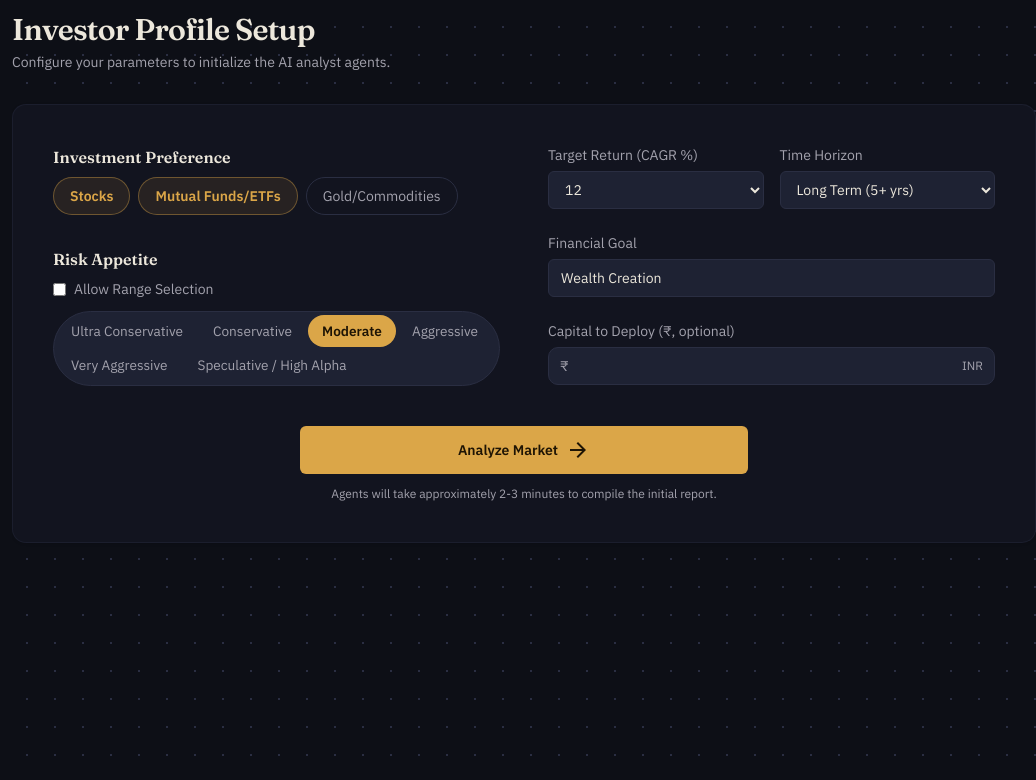
Test: ProfileSetup › submit is disabled and an alert shows when no instruments are selected
Click the button "Stocks": x=92, y=196 [53, 177, 130, 215]
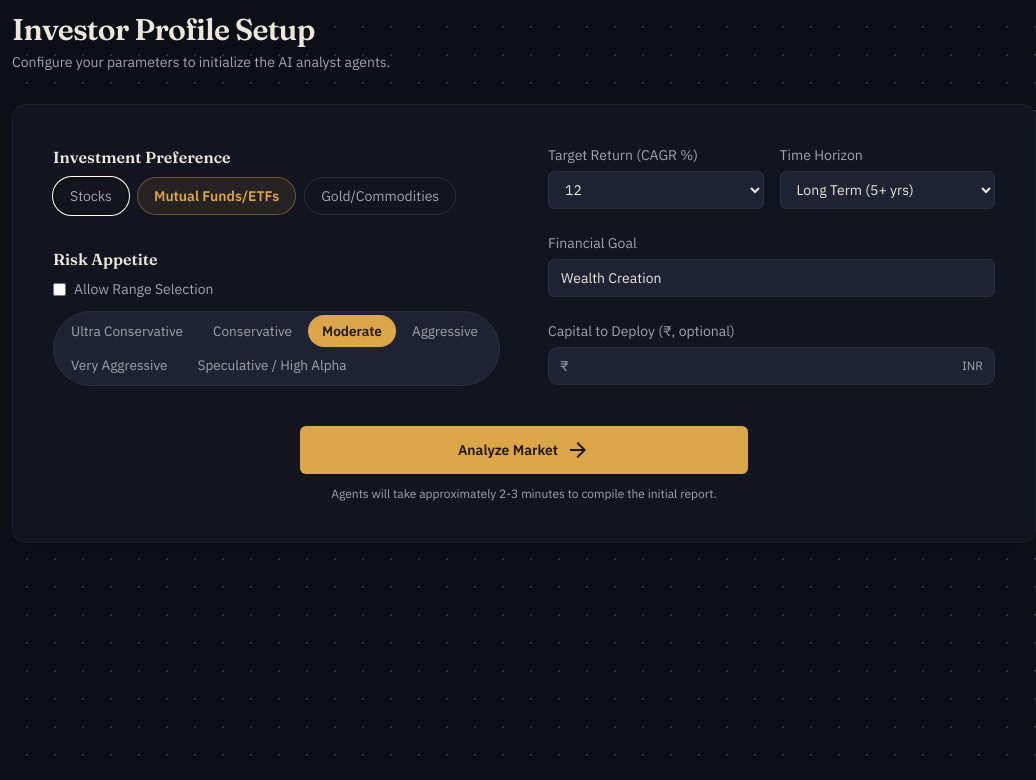
Click the button "Mutual Funds/ETFs": x=216, y=196 [137, 177, 296, 215]
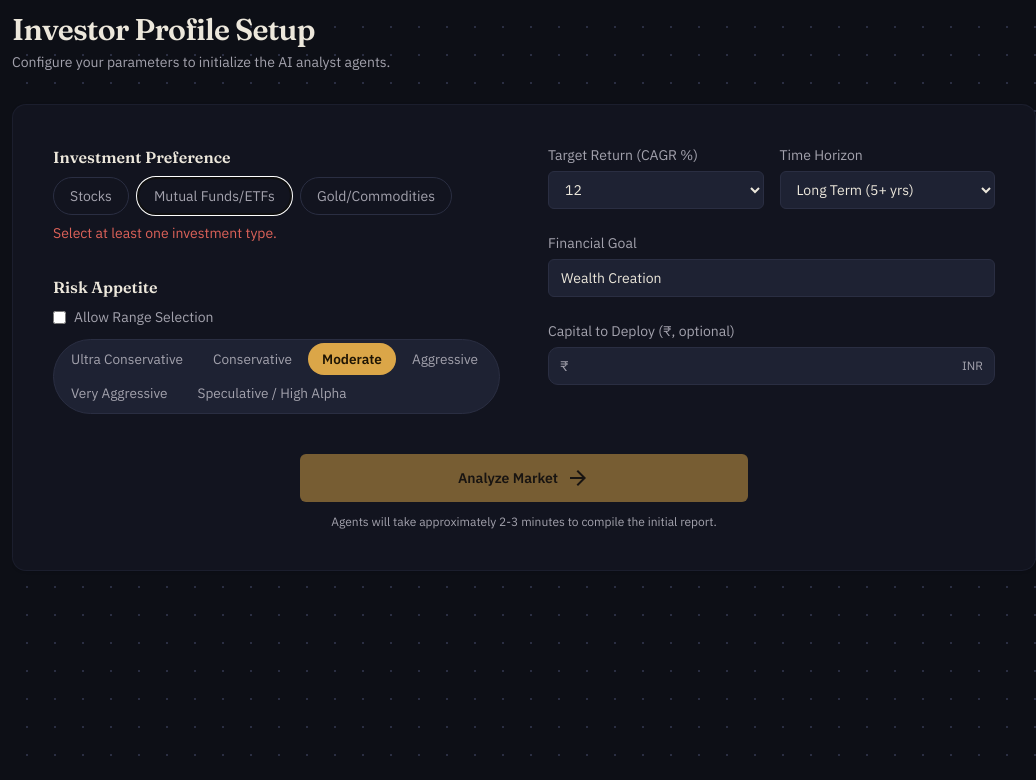
Now the message reads "Select at least one investment type.", box [53, 224, 277, 242]
Now the button "Analyze Market" is disabled, box [300, 454, 748, 502]
